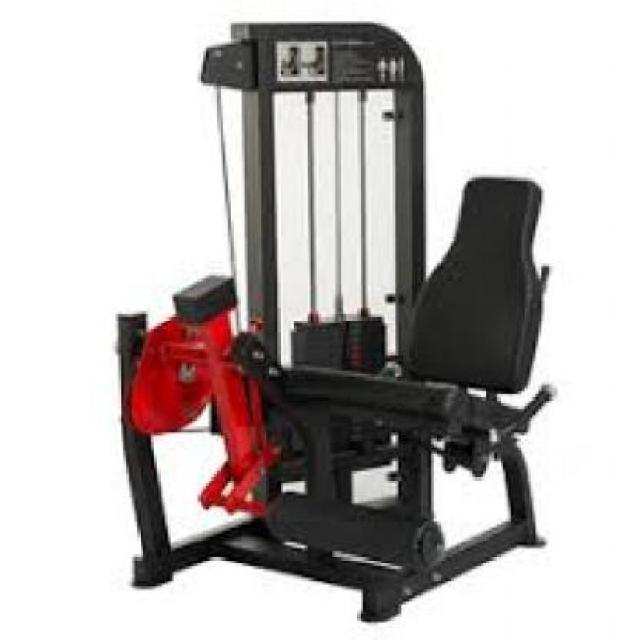leg extension: (101, 9, 574, 631)
